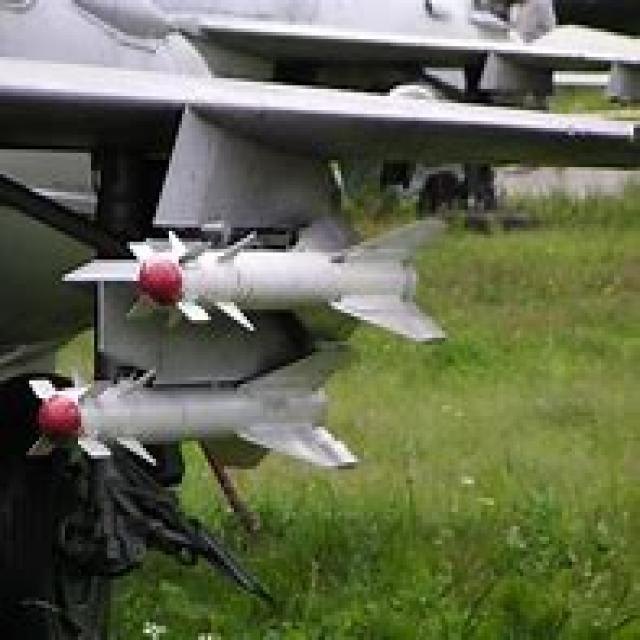missile: (122, 218, 454, 351), (25, 368, 361, 473)
